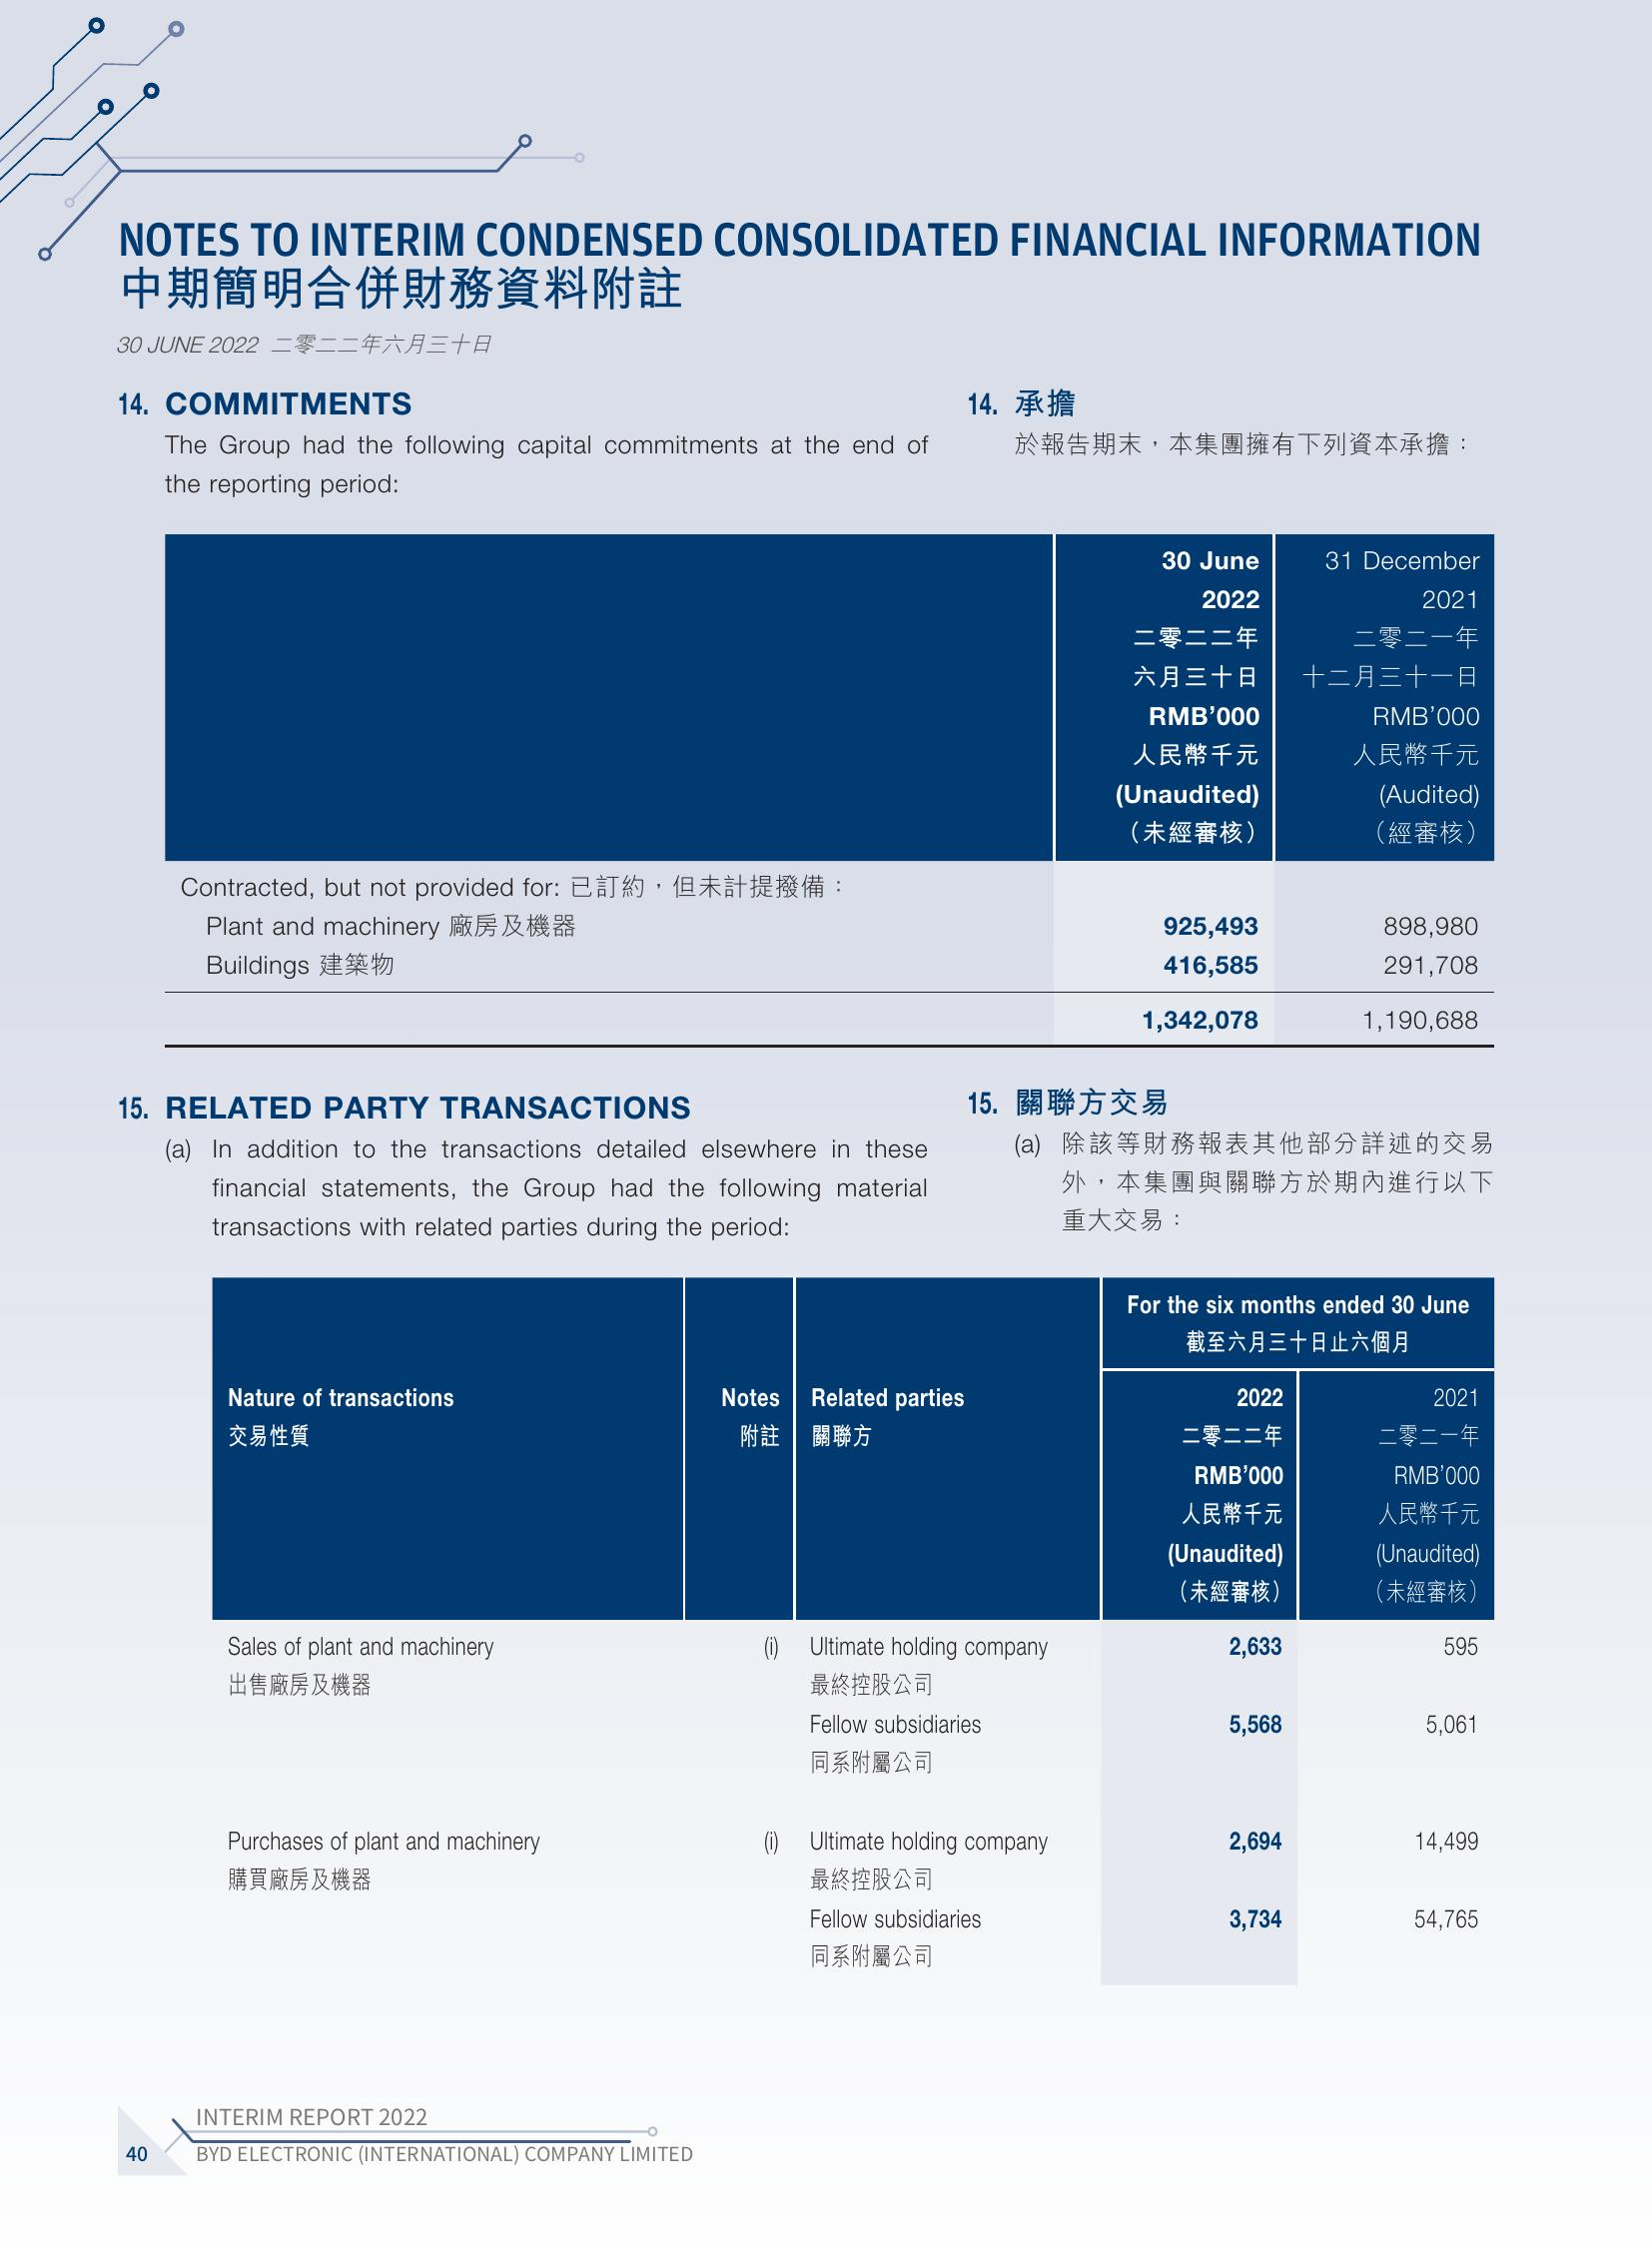Footer: (0, 2094, 1652, 2242)
Header: (0, 0, 1652, 200)
Table: (200, 1267, 1530, 1979), (122, 503, 1513, 1048)
